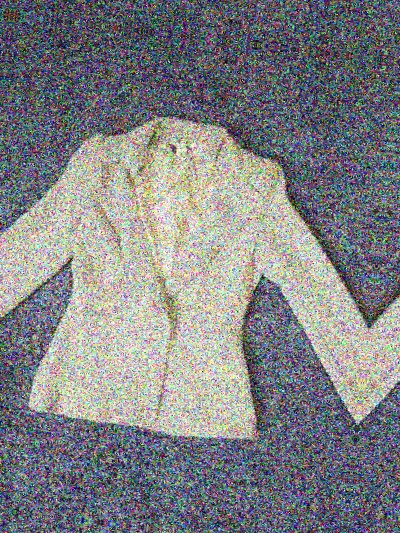Blazer: (0, 89, 389, 474), (356, 136, 400, 520)
